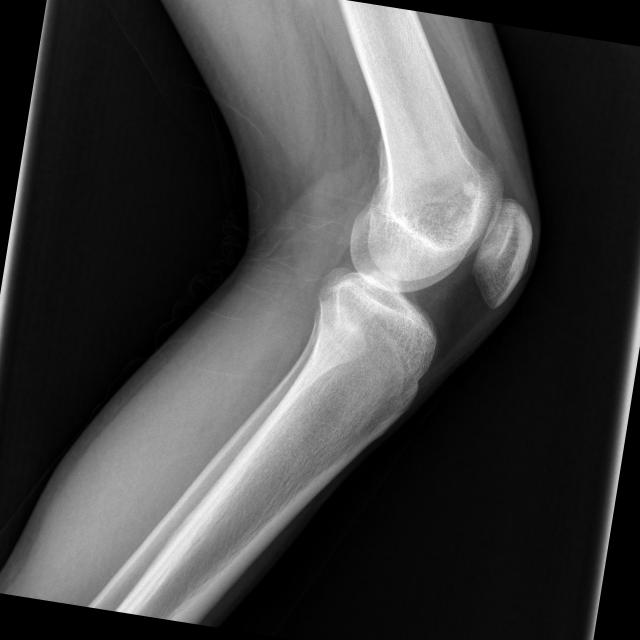Knee: (308, 157, 544, 368)
